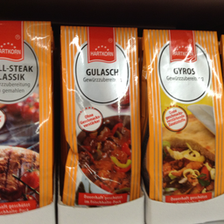spices: (60, 25, 140, 208), (142, 29, 224, 203), (1, 20, 55, 215)
